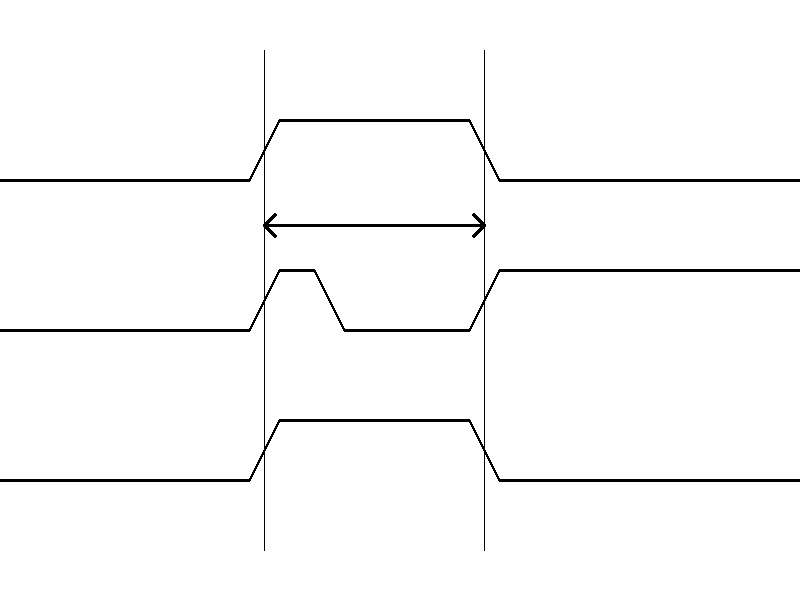double_arrow: (264, 210, 484, 240)
